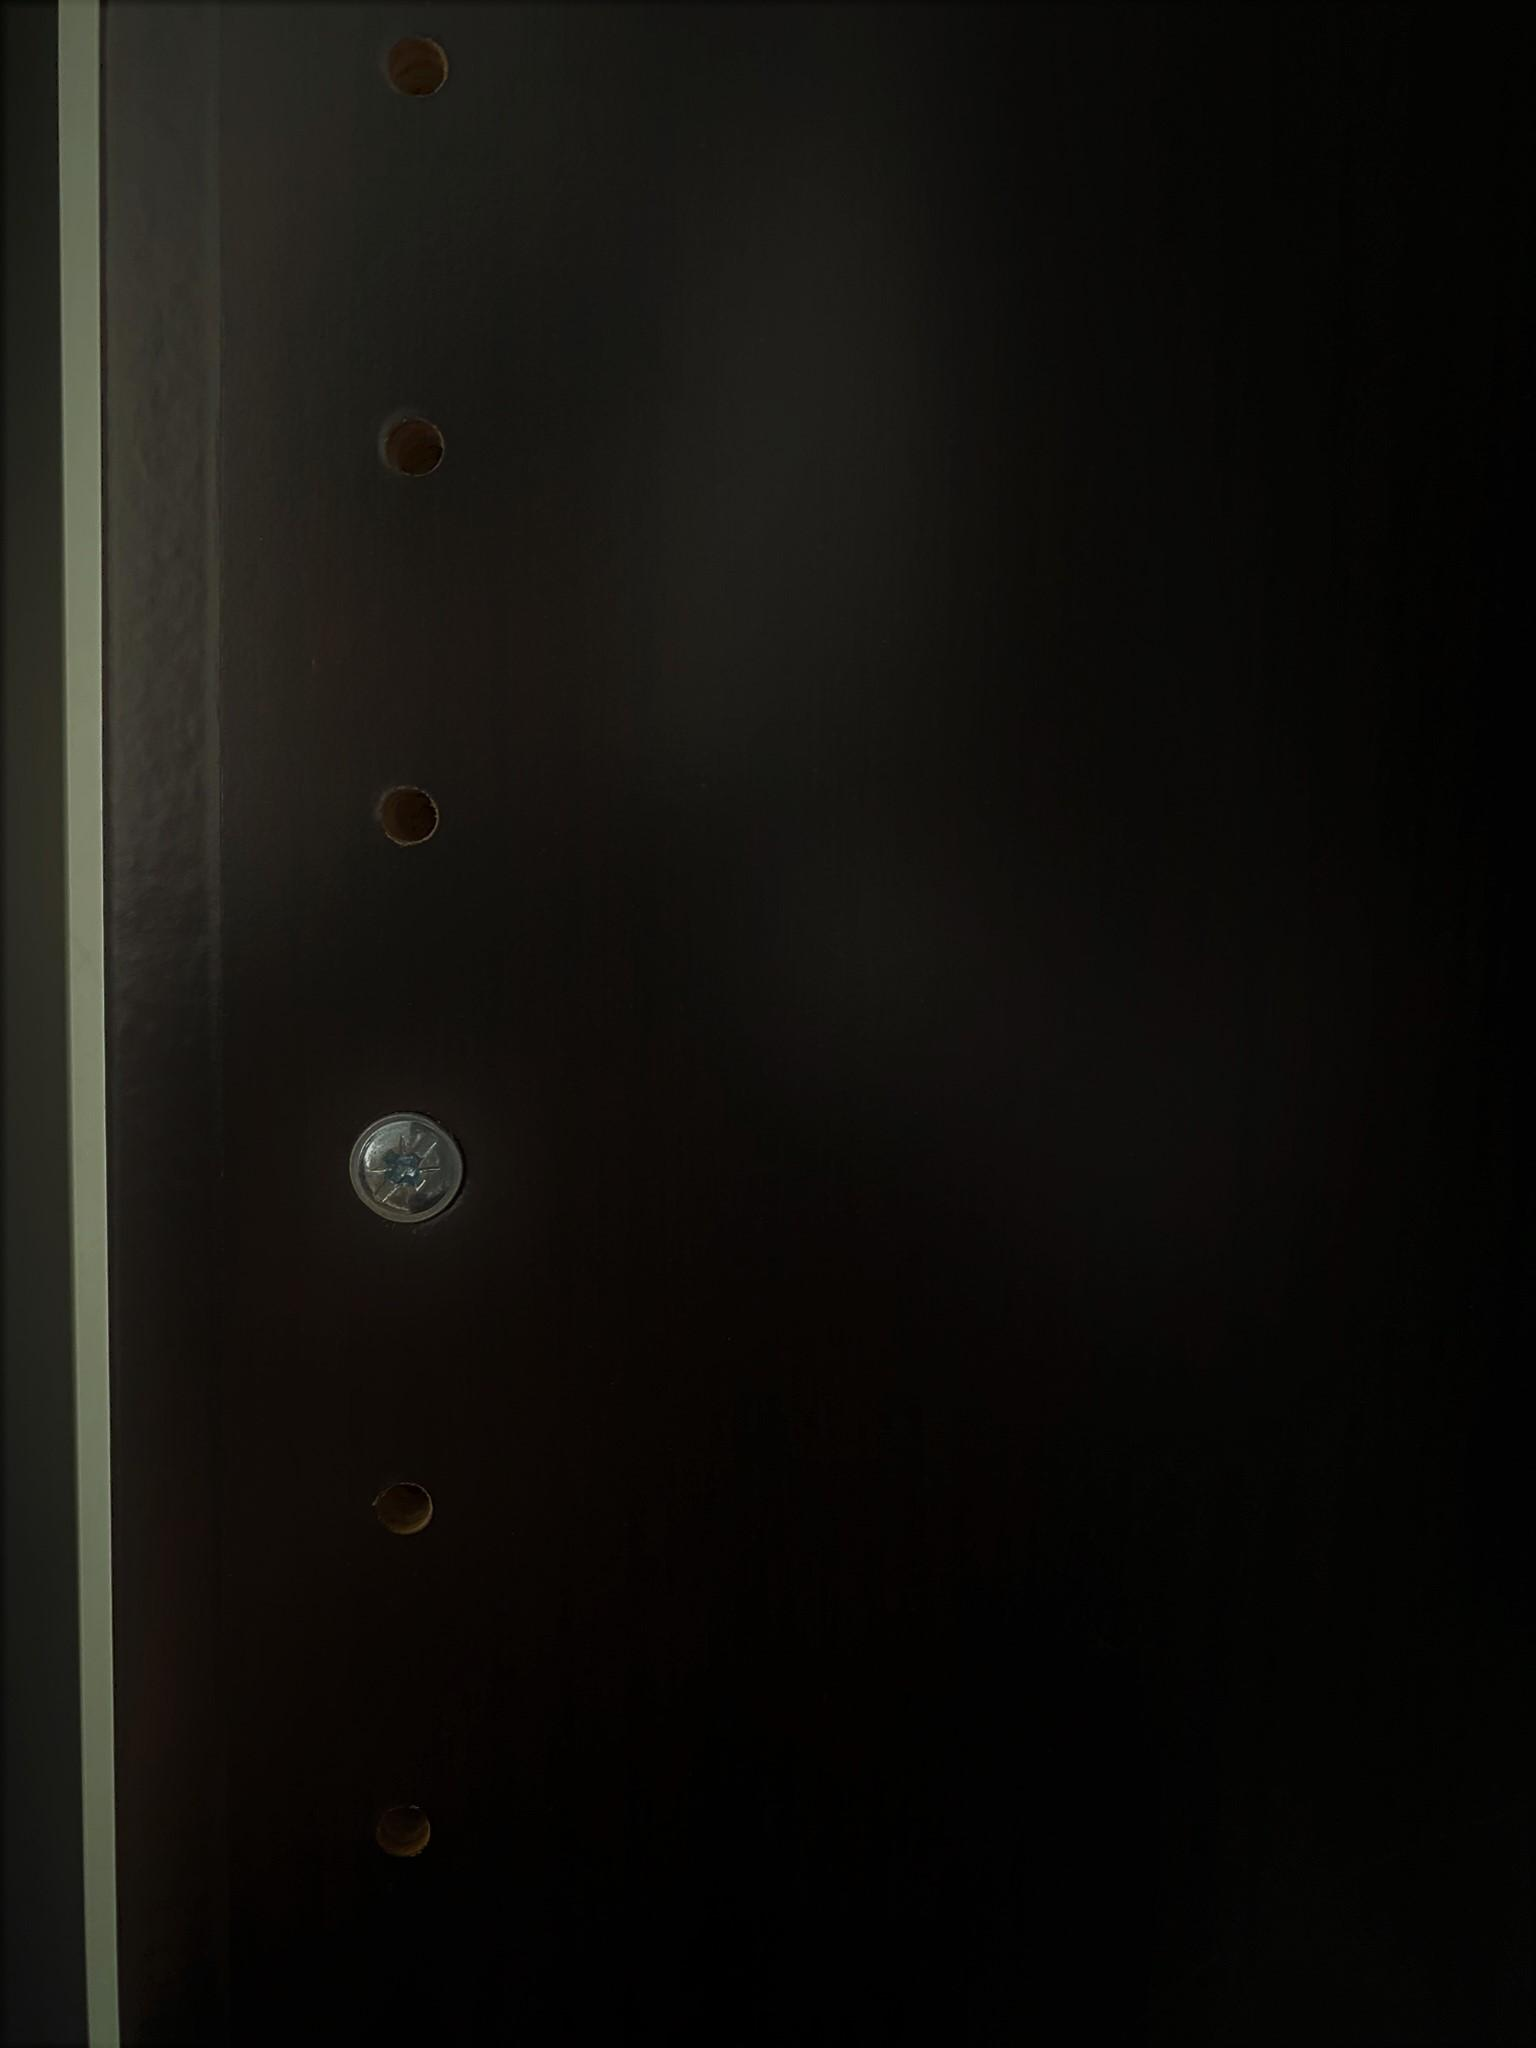PH: (344, 1113, 468, 1229)
